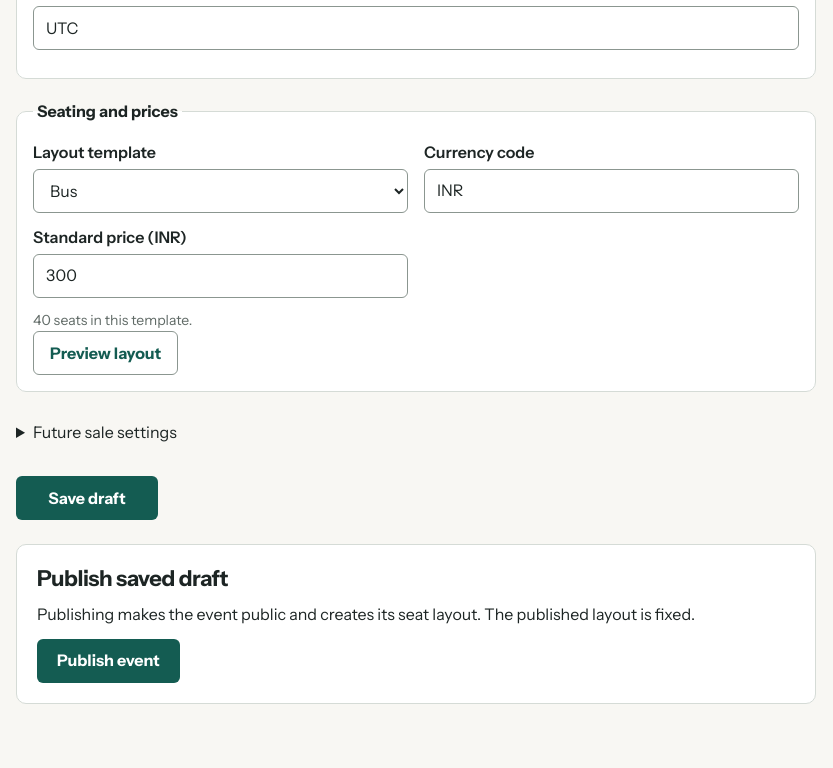
Test: stale publication requires loading and reviewing the updated draft before reconfirming
(page scrolled)
Click the button "Publish event" at (108, 661), box [37,639,180,683]
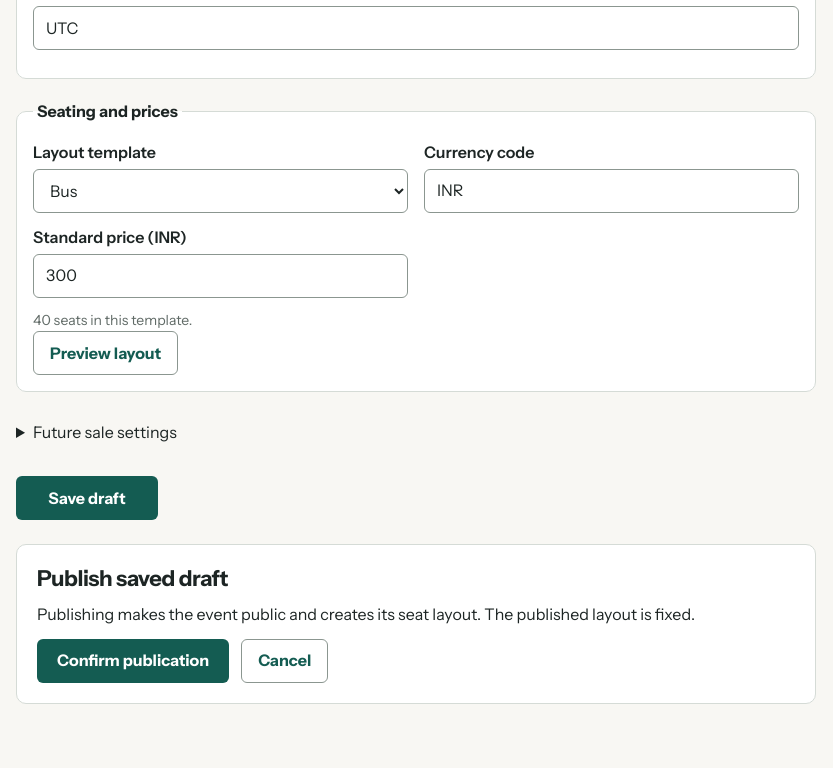
Click the button "Confirm publication" at (133, 661), box [37,639,229,683]
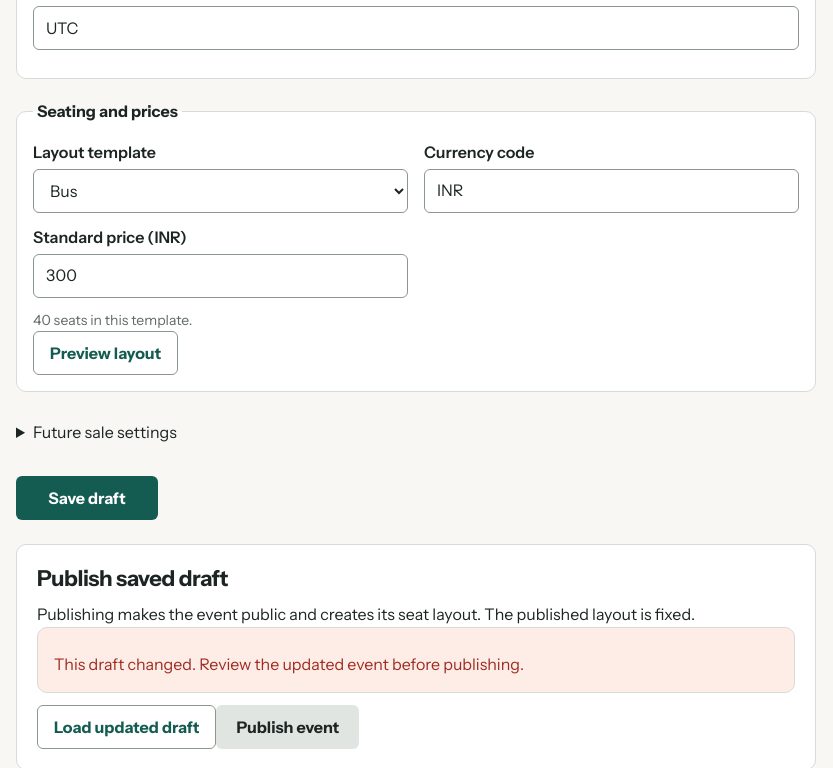
Expected: the message shows "Review the updated event before publishing.", [54,654,524,674]
Expected: the button "Publish event" is disabled, [216,706,359,750]
Expected: the button "Confirm publication" is gone
Click the button "Load updated draft" at (127, 728), box [37,706,216,750]
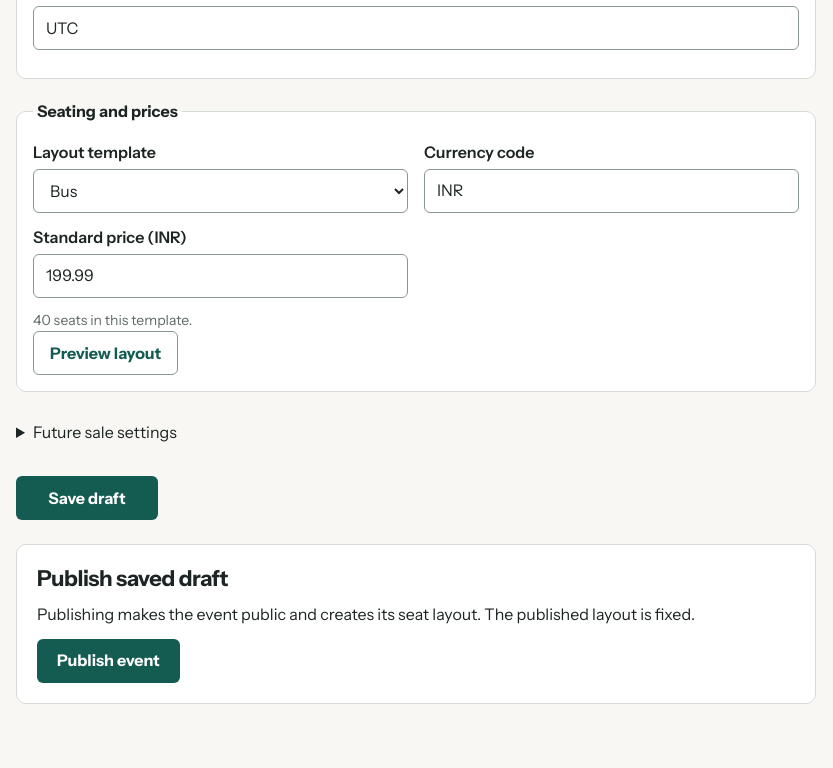
Expected: the field labelled "Standard price (INR)" holds "199.99", [33,254,408,298]
Click the button "Publish event" at (108, 661), box [37,639,180,683]
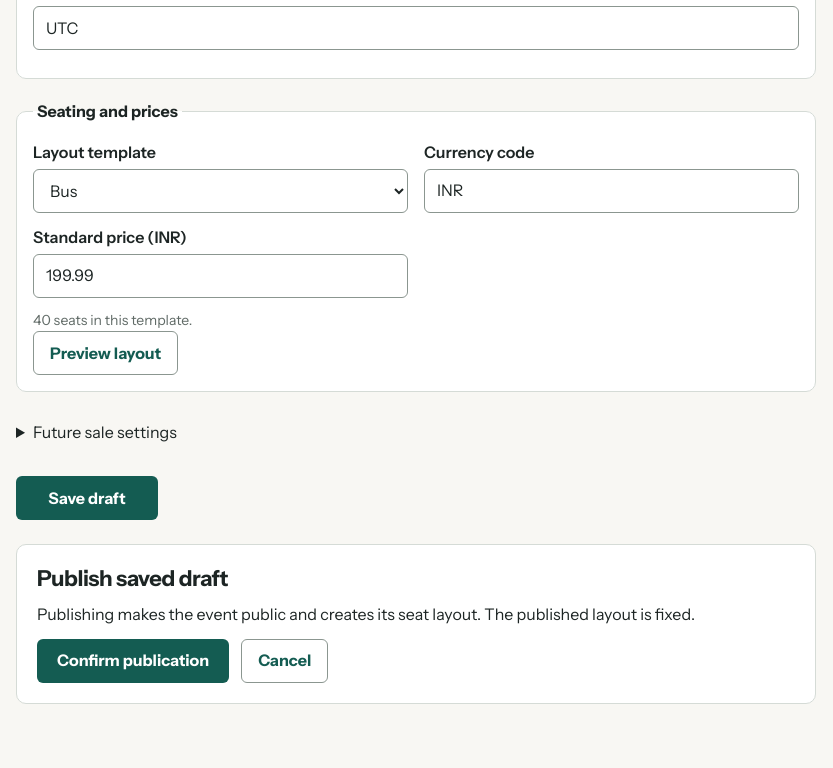
Click the button "Confirm publication" at (133, 661), box [37,639,229,683]
(page scrolled)
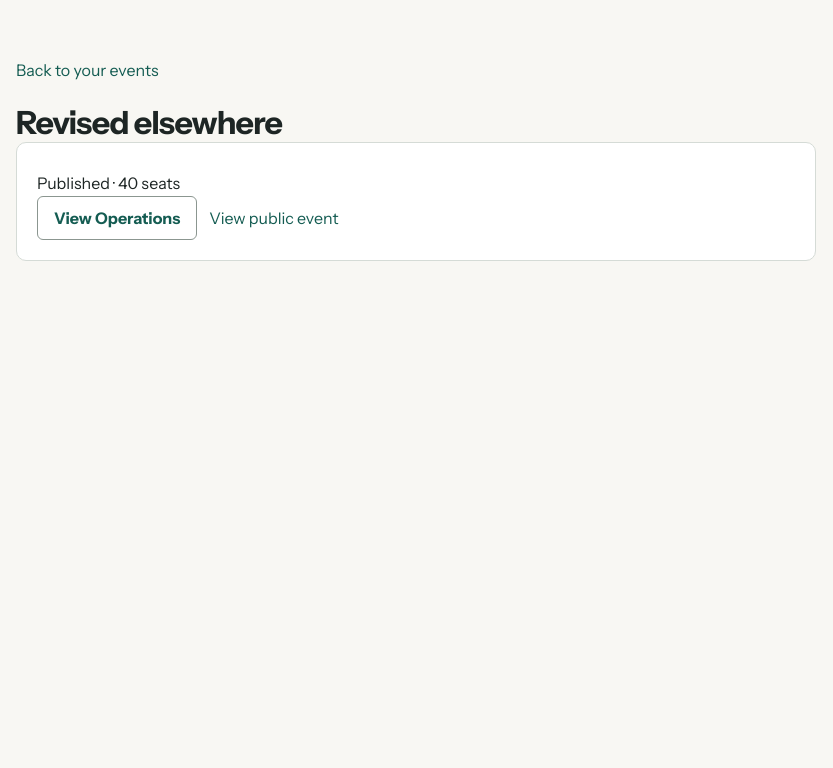
Expected: the text "Published · 40 seats" is shown, [37,173,180,193]
